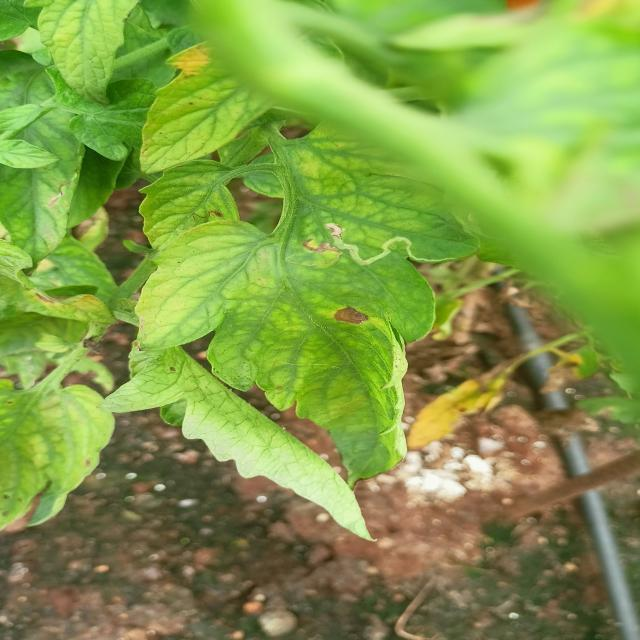Tomato mosaic virus leaf: (199, 291, 417, 489)
